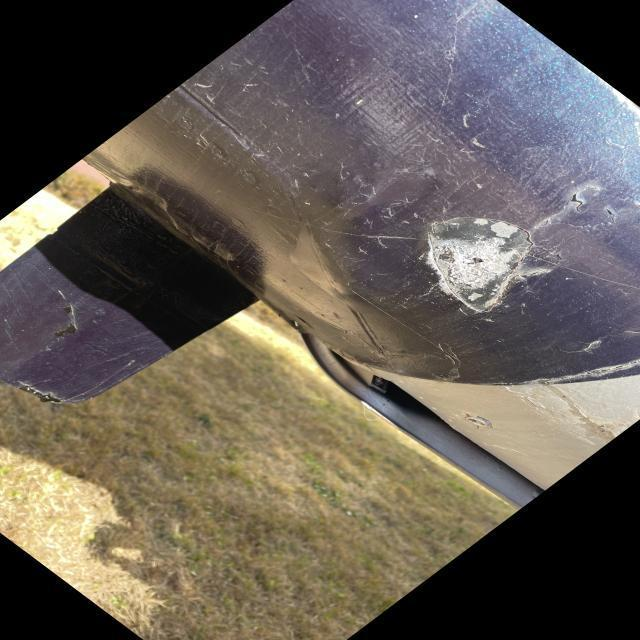crack: (563, 188, 627, 224)
dent: (413, 209, 540, 313)
